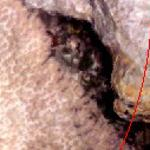alive: (2, 3, 149, 148)
